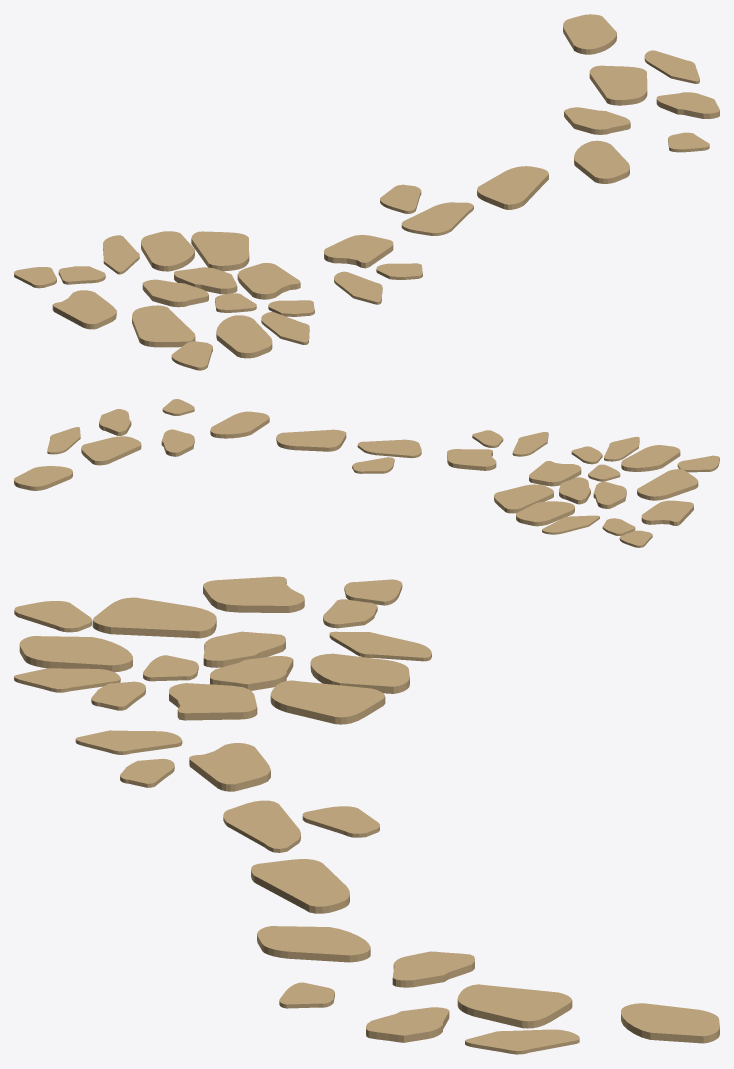
The model's file is Batu Setapak 2.fbx.
The picture shows the model from 3 angles, top to bottom: view 1: azimuth 30°, elevation 25°; view 2: azimuth 150°, elevation 25°; view 3: azimuth 270°, elevation 25°; orthographic projection. The views are drawn at different scales.
Parts seen in each view (by area): view 1: batu setapak2; view 2: batu setapak2; view 3: batu setapak2.
Boxes of the visible parts, box(x1,y1,x2,y2) form: batu setapak2: box(14, 14, 719, 370); batu setapak2: box(14, 399, 719, 547); batu setapak2: box(14, 576, 719, 1054).
Size of the model in its own units: 4392 by 31.23 by 2766.
